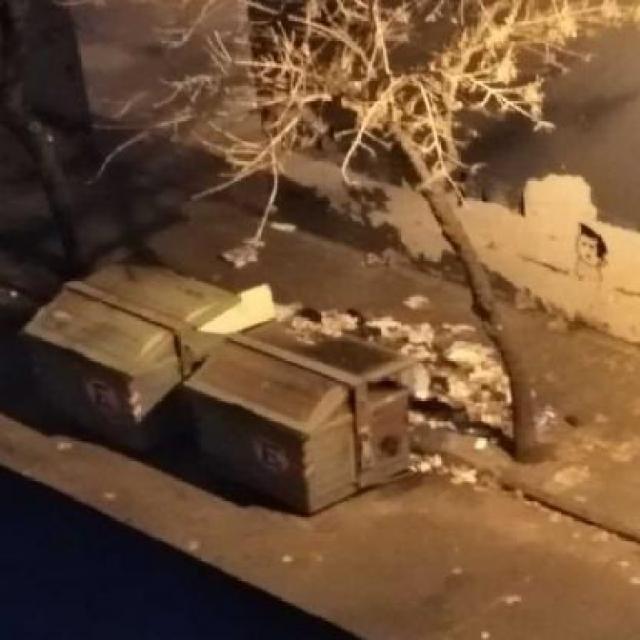garbage: (37, 252, 512, 498)
